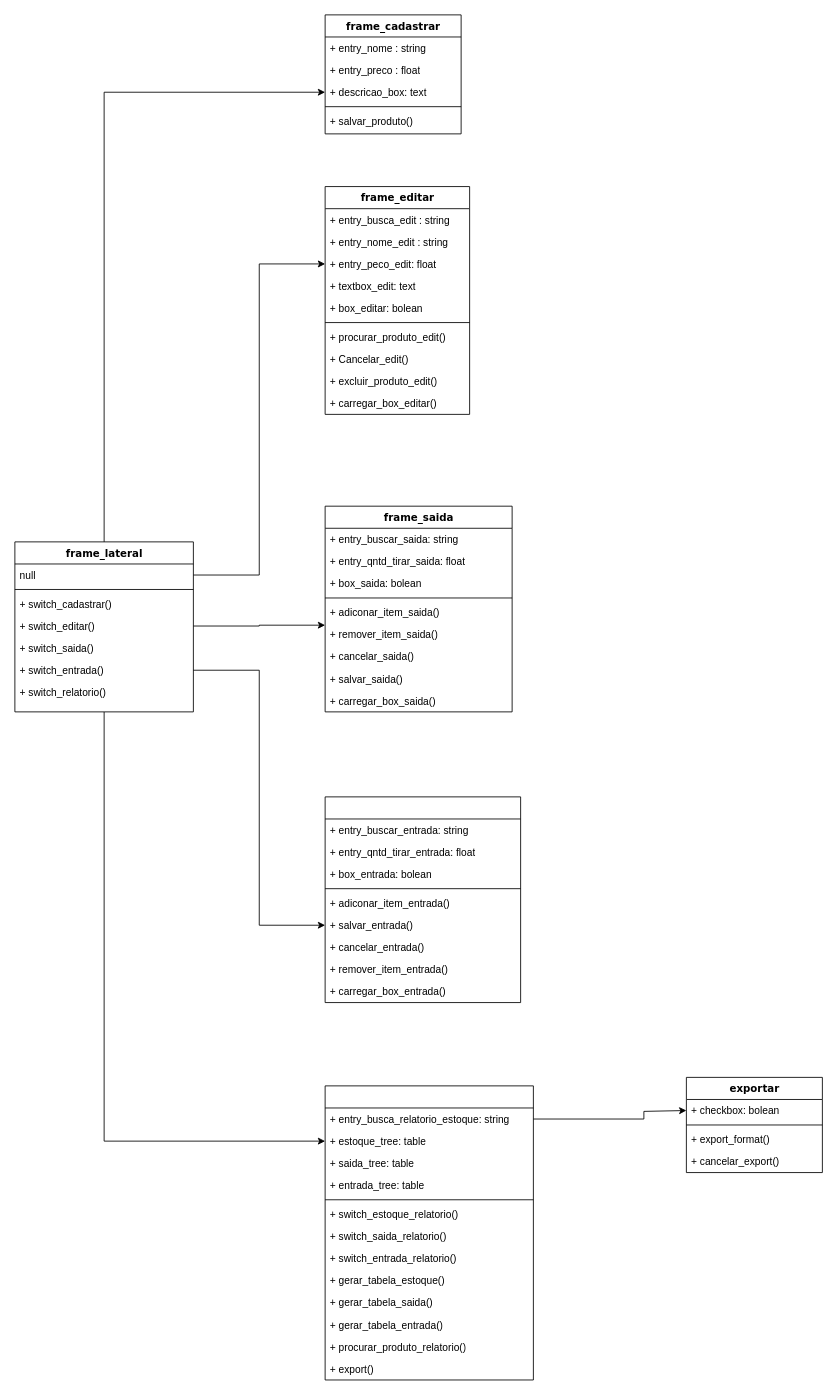
Image size: 837x1397. Some labels were removed from this diagram. The shapes that lost their labels are listed below. From the top down, each one's box as (x1, y1, x2, y2) in pixels, then its label:
(324, 796, 521, 1003): frame_entrada
(324, 1085, 533, 1380): frame_relatorio
